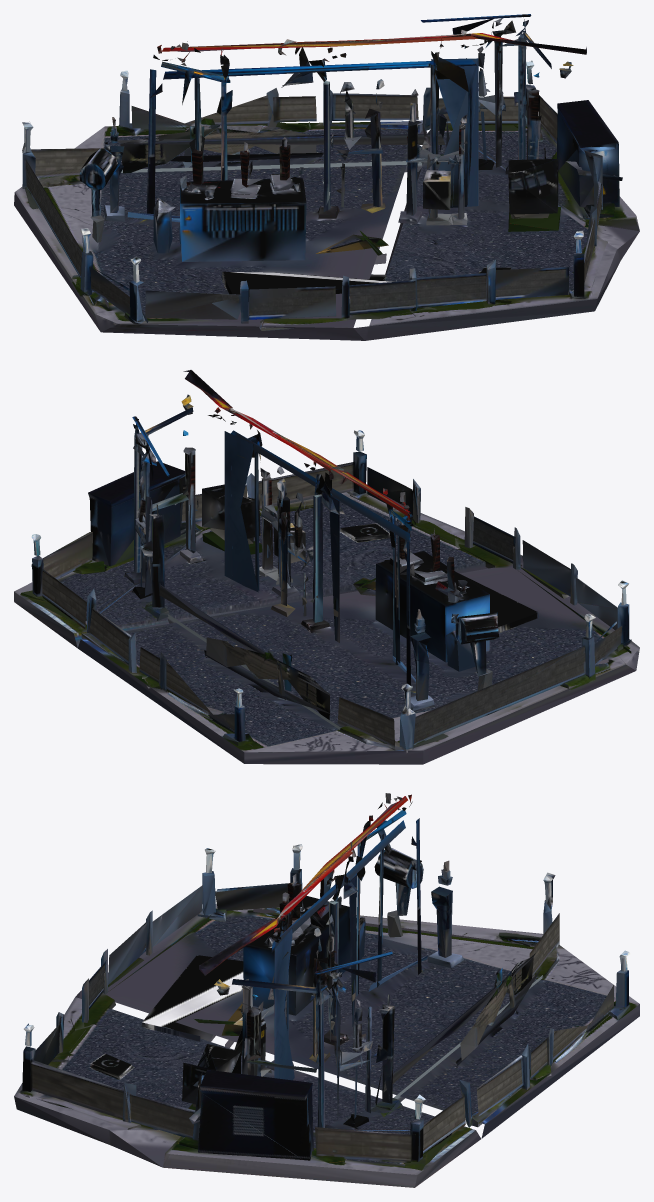
The model's file is substation.glb.
The picture shows the model from 3 angles, top to bottom: view 1: azimuth 30°, elevation 25°; view 2: azimuth 150°, elevation 25°; view 3: azimuth 270°, elevation 25°; orthographic projection. The views are drawn at different scales.
Parts seen in each view (by area): view 1: world; view 2: world; view 3: world.
Boxes of the visible parts, x1,y1,x2,y2 form: world: [14, 14, 639, 340]; world: [14, 370, 639, 764]; world: [14, 793, 639, 1187].
Bounding box in the file's own units: 1.86 × 0.6484 × 1.8.
1 material, 1 textured.
